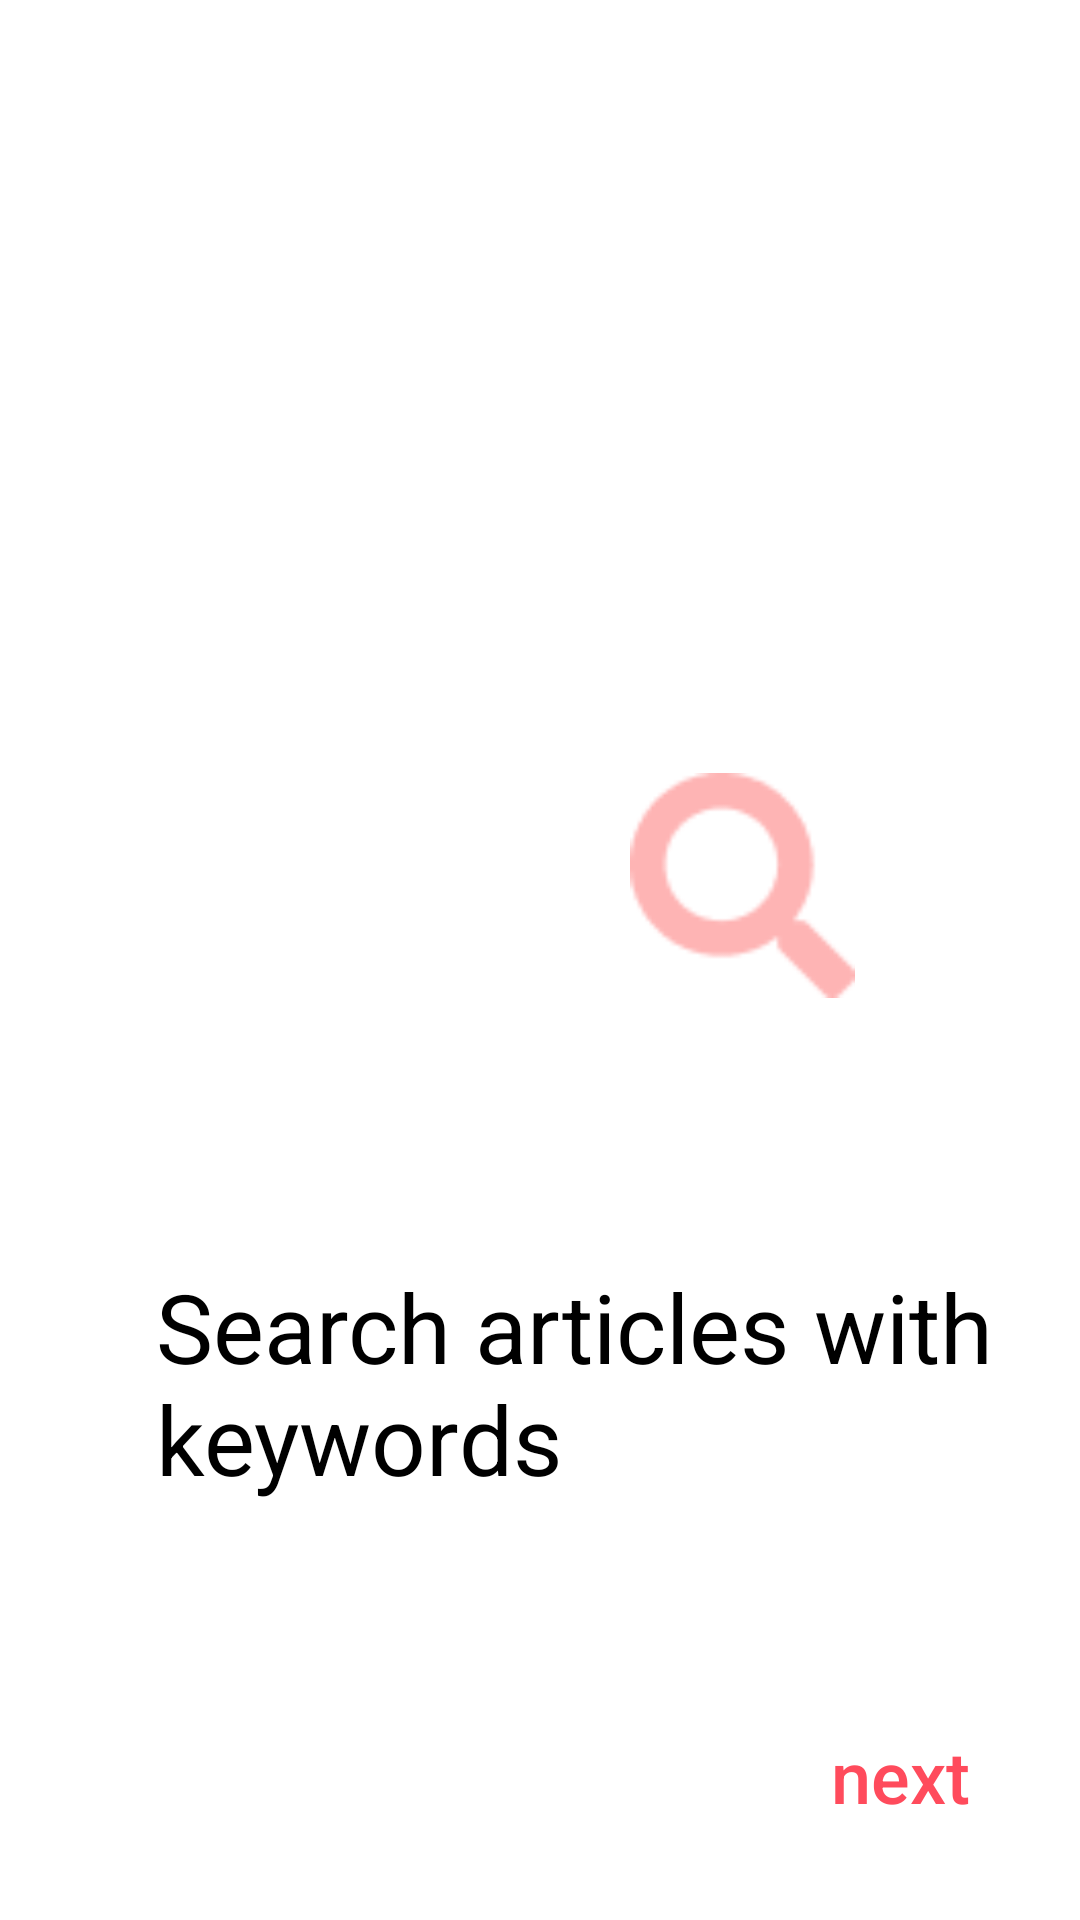

Icon bounding boxes for this 1080×1920 phone screenshot, format rect(x1, y1, x2, y2):
search view: rect(630, 773, 855, 998)
